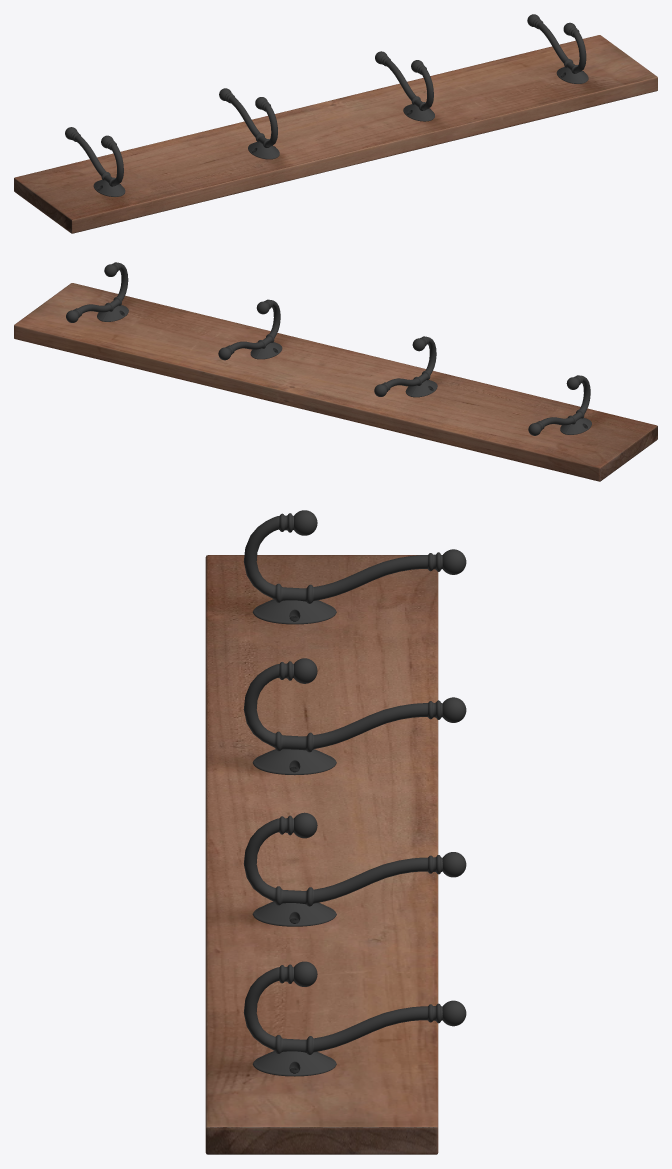
File: coat_rack.glb
3 views of the same model, one above another, from view 1: azimuth 30°, elevation 25°; view 2: azimuth 150°, elevation 25°; view 3: azimuth 270°, elevation 25° (orthographic). The views are drawn at different scales.
Visible parts, largest first — view 1: Cube, Cylinder.003; view 2: Cube, Cylinder.003; view 3: Cube, Cylinder.003.
Part boxes in pixels (x1=…): Cube: x1=14, y1=35, x2=657, y2=233; Cylinder.003: x1=65, y1=14, x2=588, y2=196; Cube: x1=14, y1=283, x2=657, y2=481; Cylinder.003: x1=66, y1=262, x2=591, y2=435; Cube: x1=205, y1=555, x2=438, y2=1154; Cylinder.003: x1=243, y1=510, x2=466, y2=1076.
Bounding box in the file's own units: 0.8101 × 0.0877 × 0.1559.
3 materials, 1 textured.
